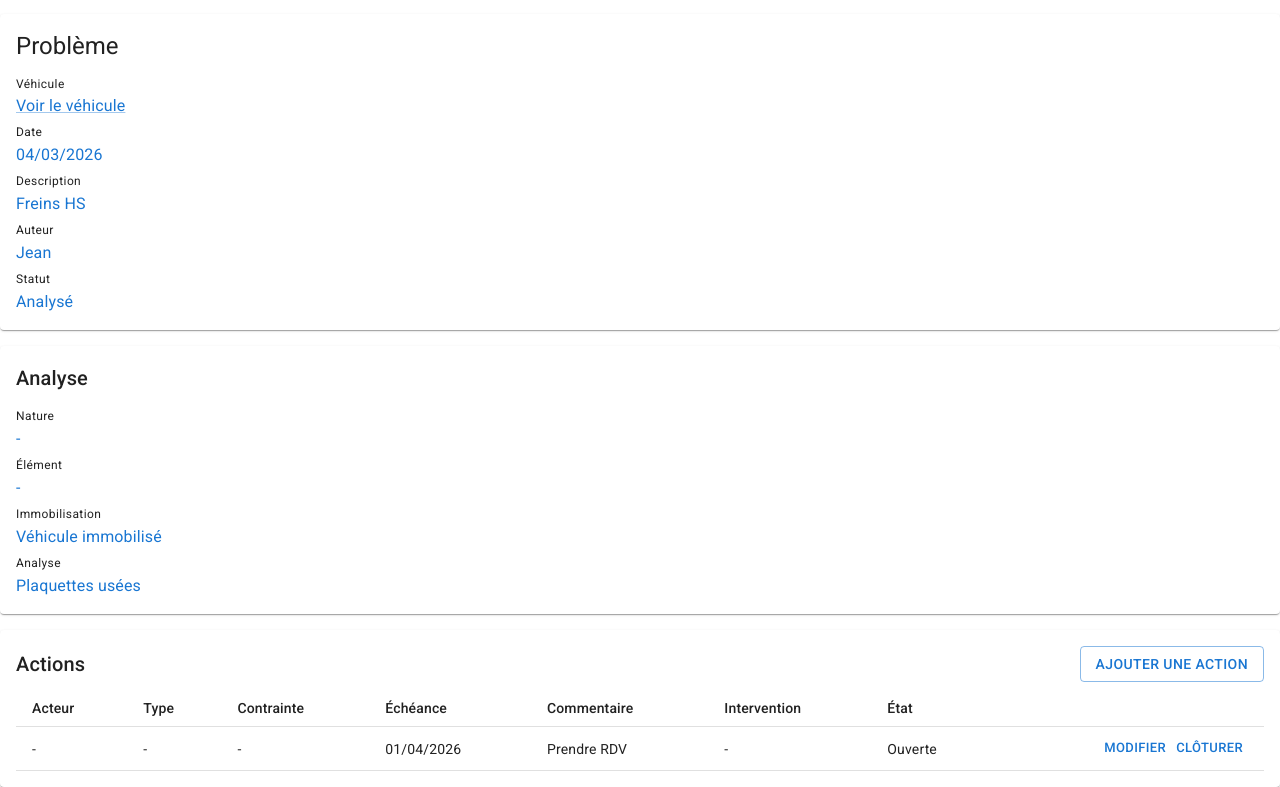
ProblemDetailPage - actions › clôture une action après confirmation et affiche le statut résolu
(page scrolled)
Step 1. Click the button "Clôturer" → (1210, 749), box [1171,733,1248,764]
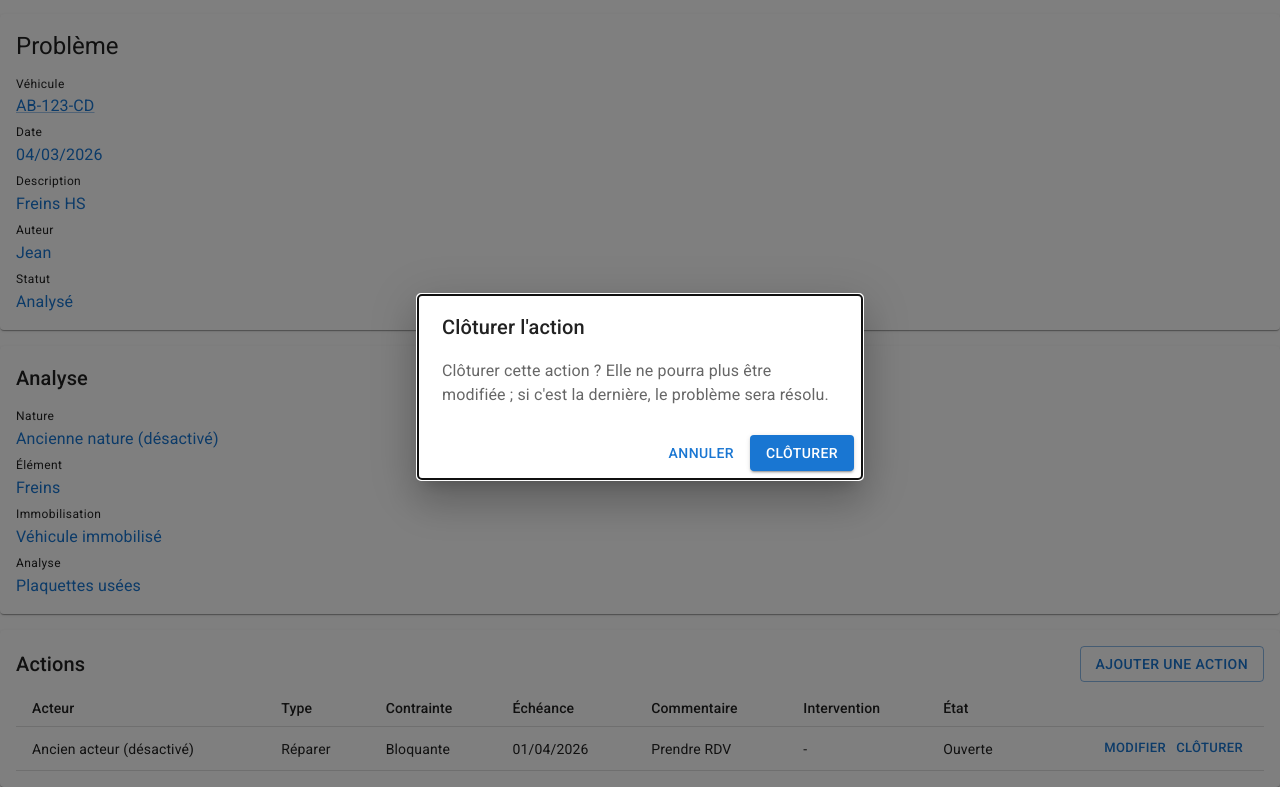
Step 2. Click the button "Clôturer" → (802, 453), box [750,435,854,471]
(page scrolled)
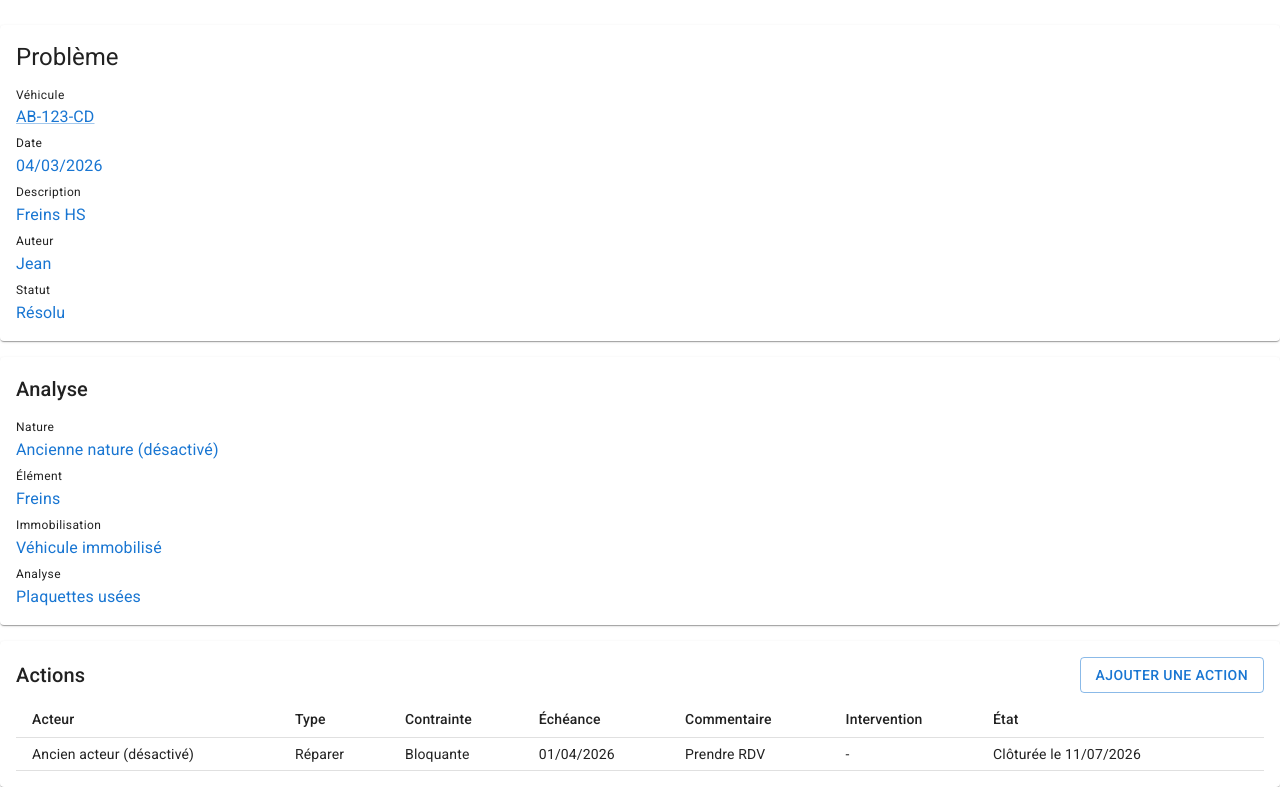
expect the text "Résolu" is shown: met, box [16,303,65,322]
expect the text "Clôturée le 11/07/2026" is shown: met, box [977,738,1221,771]
